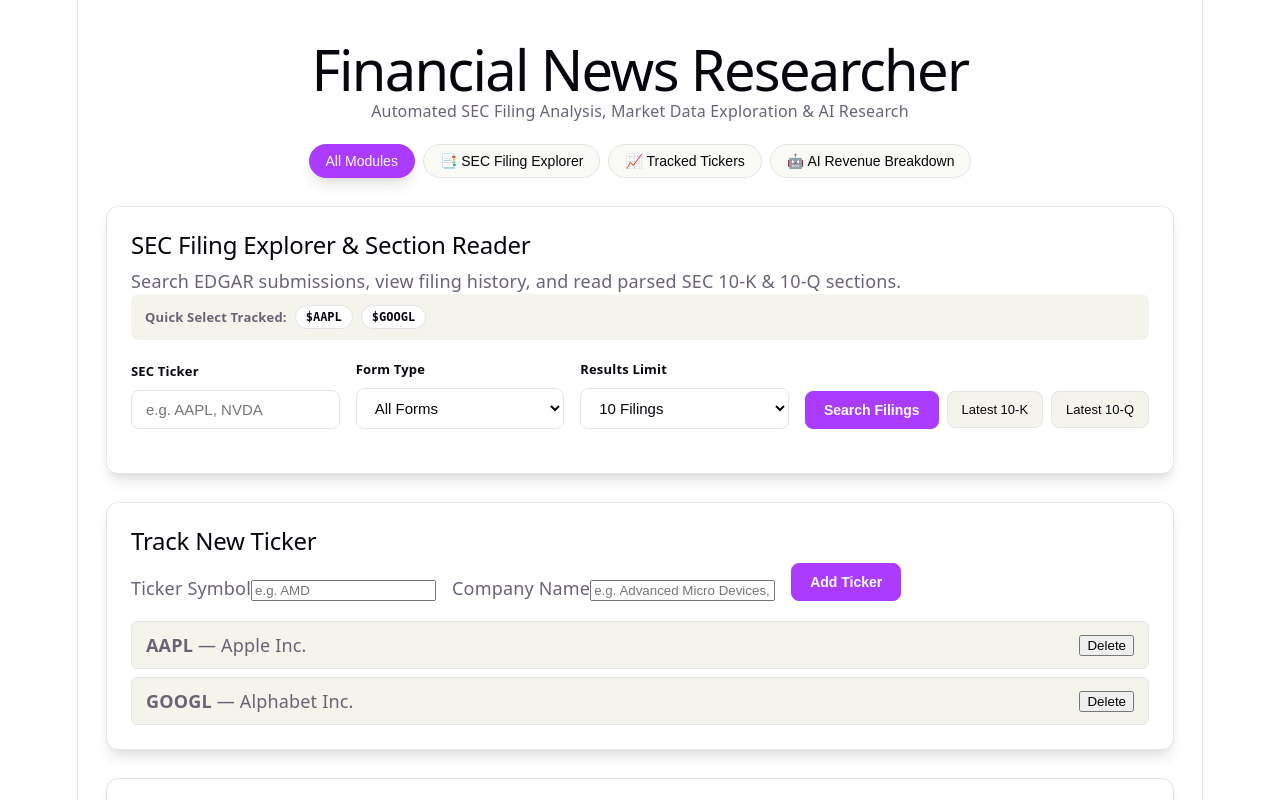
App Component Integration Tests › switches views when clicking dashboard navigation tabs
The width and height of the screenshot is (1280, 800).
Switch to SEC Filings tab
Click the button "📑 SEC Filing Explorer" at [512, 161], box [423,144,600,178]
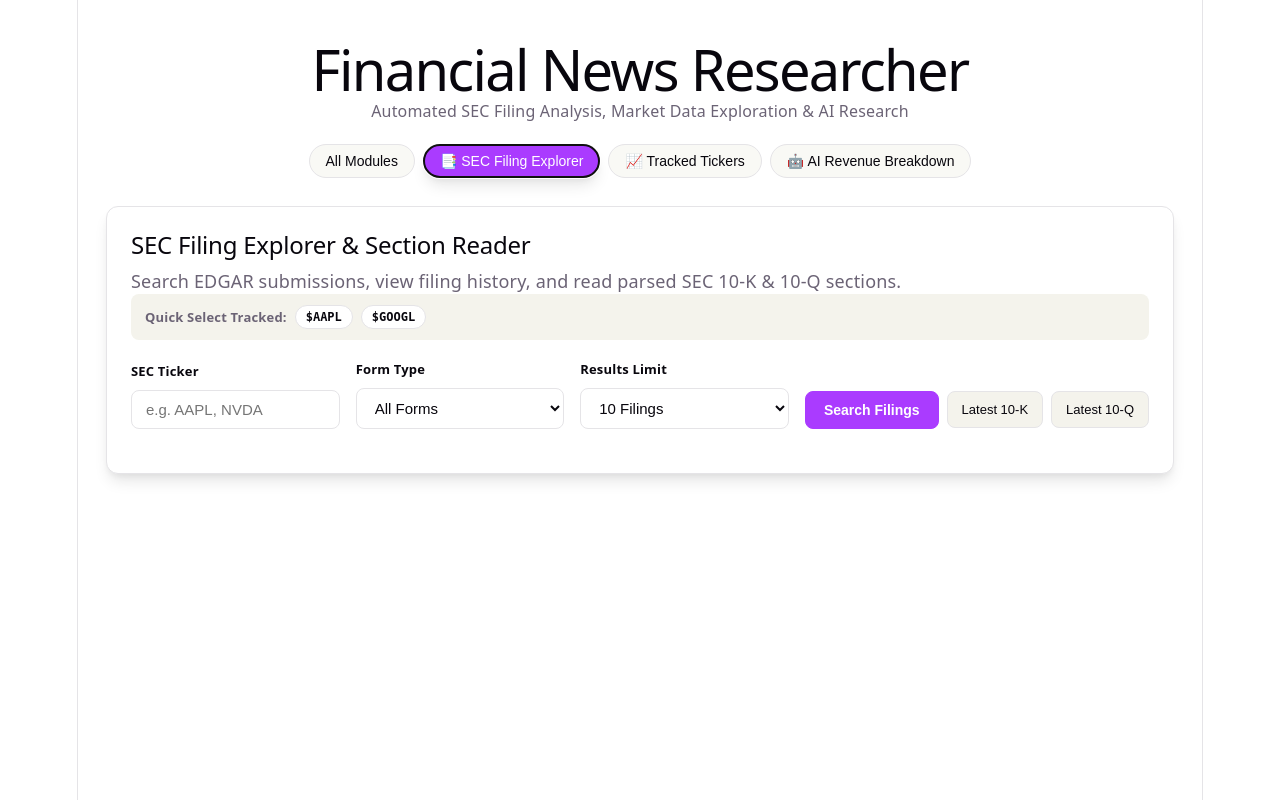
Expected: the heading "SEC Filing Explorer & Section Reader" is shown, [131,228,530,261]
Now the heading "Track New Ticker" is gone
Switch to Tickers tab
Click the button "📈 Tracked Tickers" at [685, 161], box [608,144,762,178]
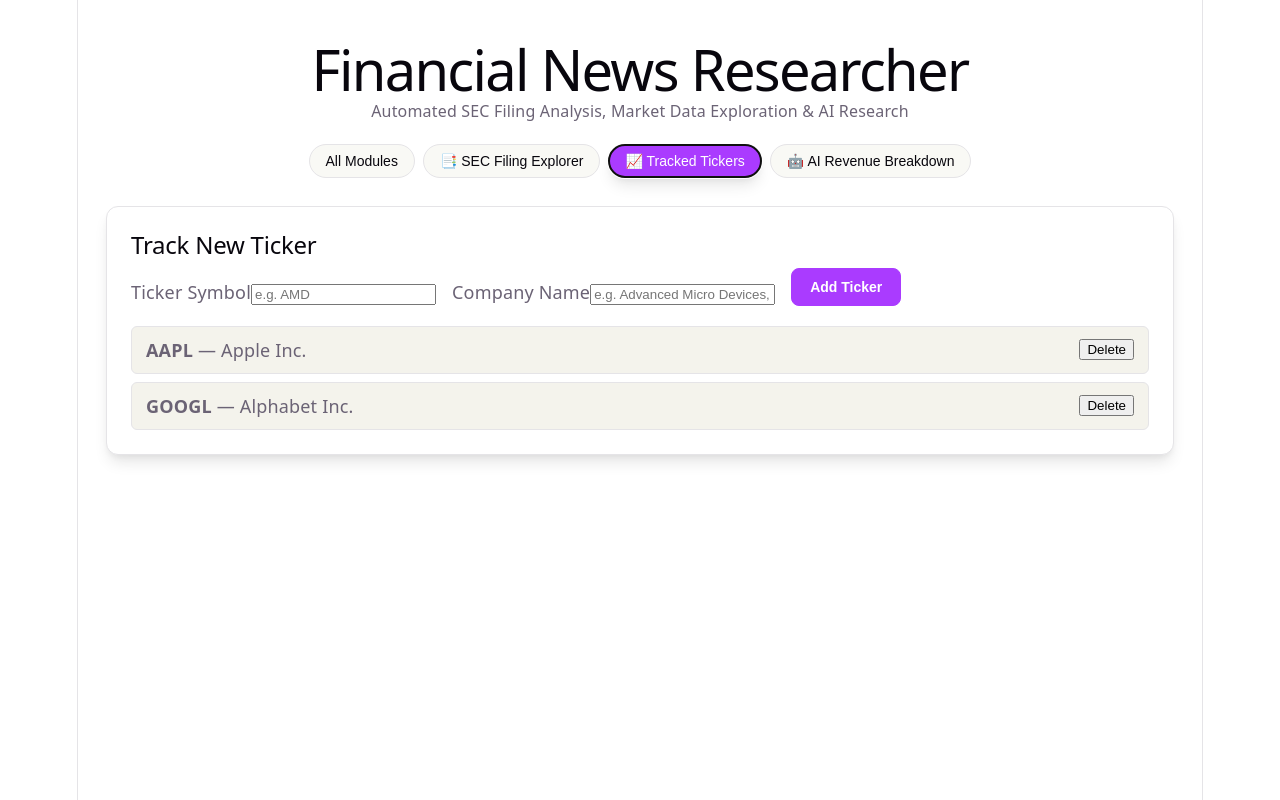
Now the heading "Track New Ticker" is shown, box [131,228,316,261]
Now the heading "SEC Filing Explorer & Section Reader" is gone
Switch back to All Modules
Click the button "All Modules" at [362, 161], box [308,144,415,178]
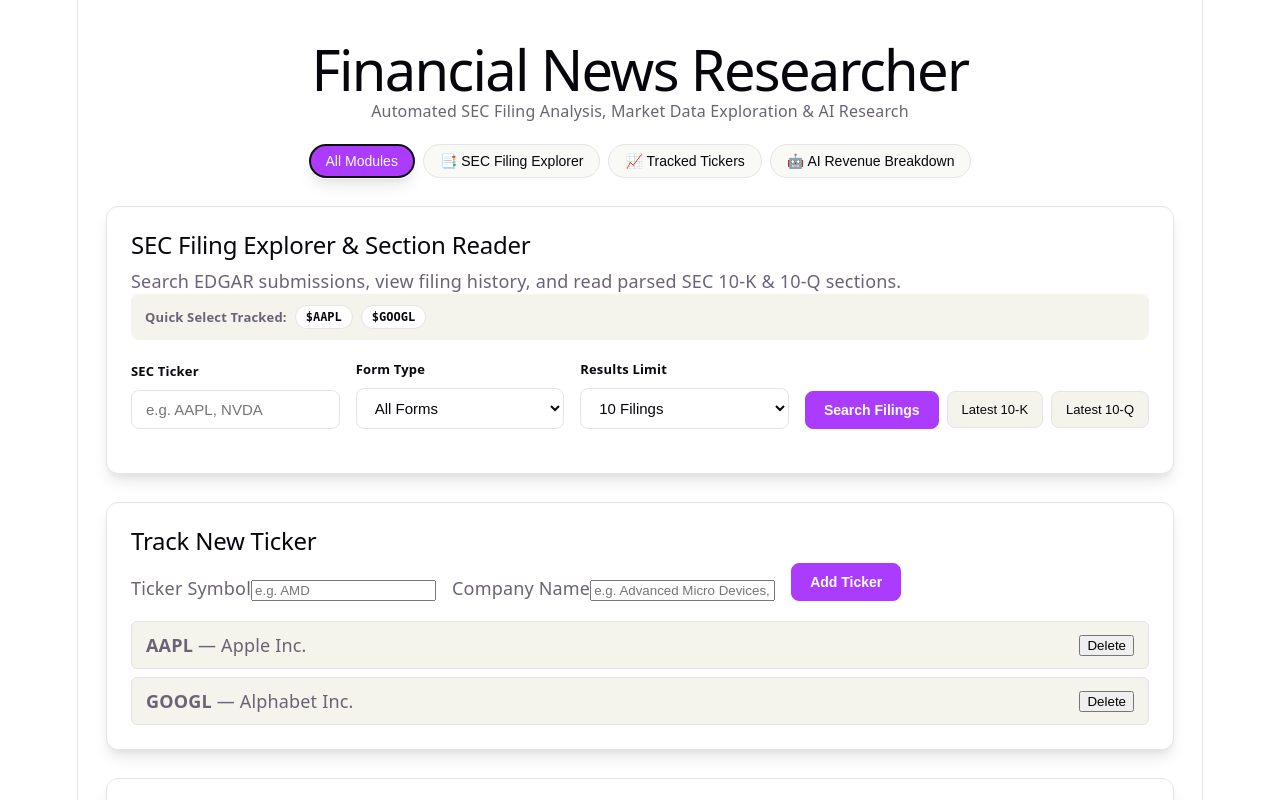
Now the heading "Track New Ticker" is shown, box [131,524,316,557]
Now the heading "SEC Filing Explorer & Section Reader" is shown, box [131,228,530,261]
